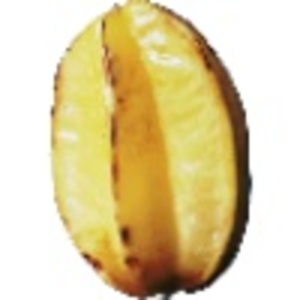carambola: (48, 1, 253, 300)
